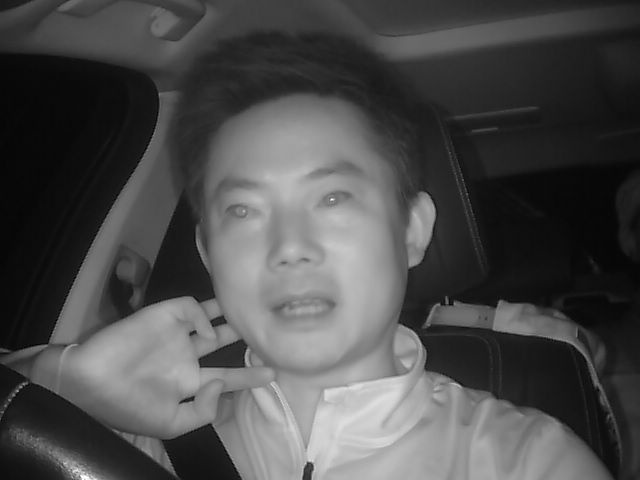hand: (89, 296, 239, 441)
